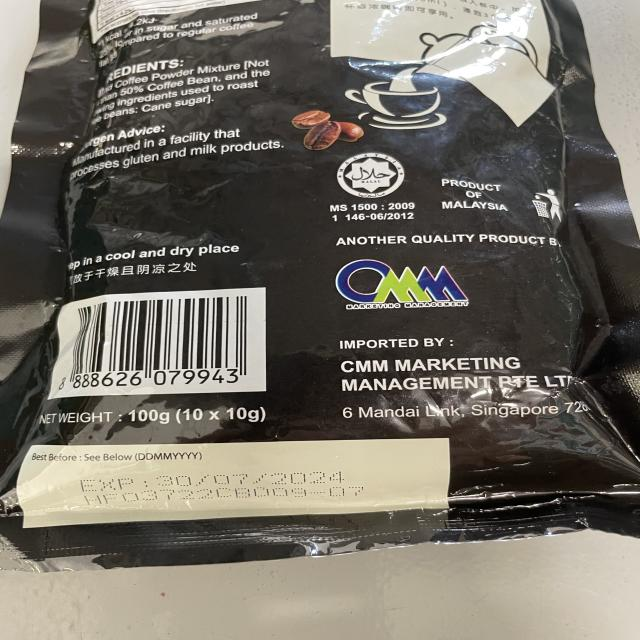object_name: (37, 6, 635, 539)
